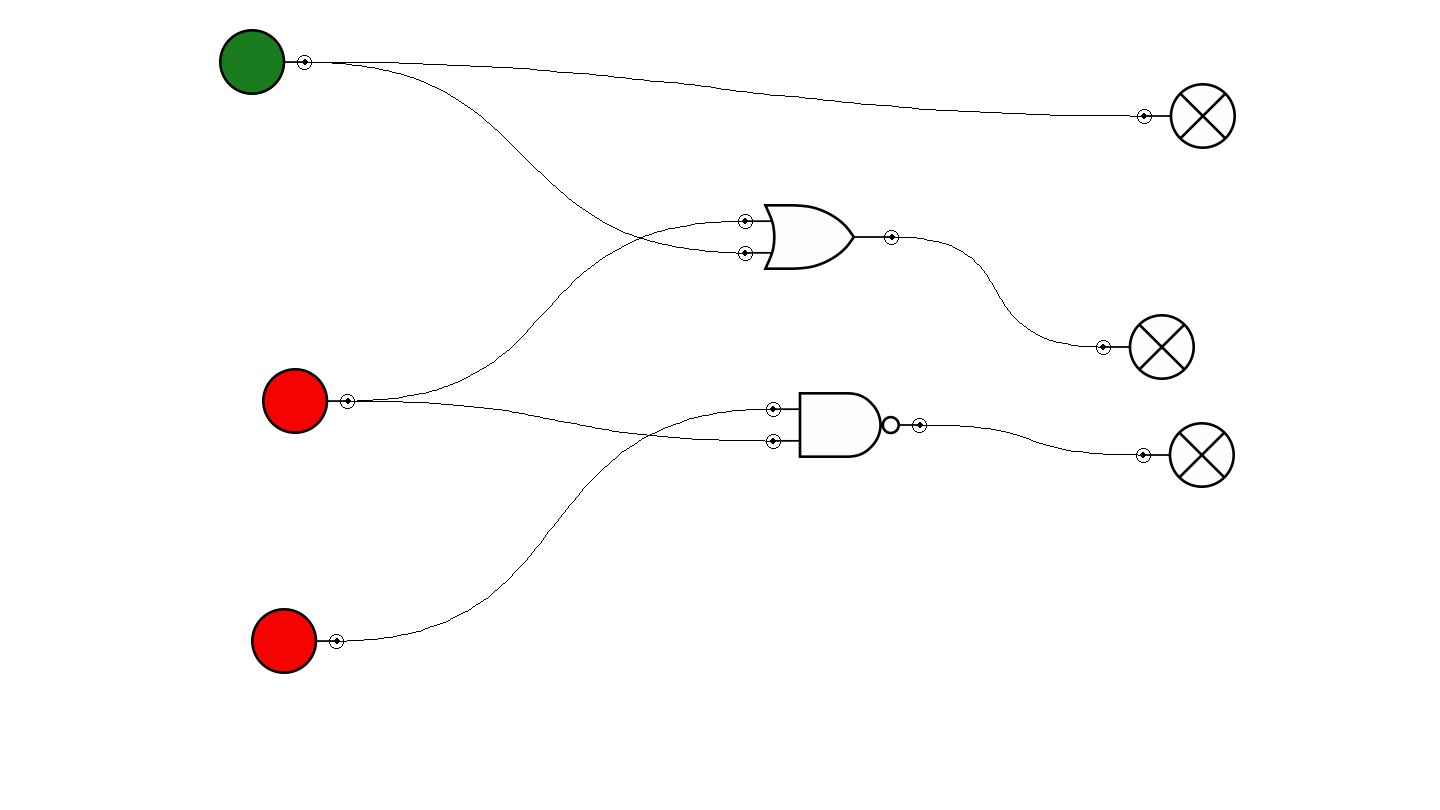bulb: (1136, 422, 1235, 488), (1096, 314, 1195, 380), (1137, 83, 1236, 149)
nand: (766, 392, 927, 458)
or: (738, 204, 899, 270)
switch_False: (262, 368, 355, 434), (251, 608, 344, 674)
switch_True: (219, 29, 312, 95)
